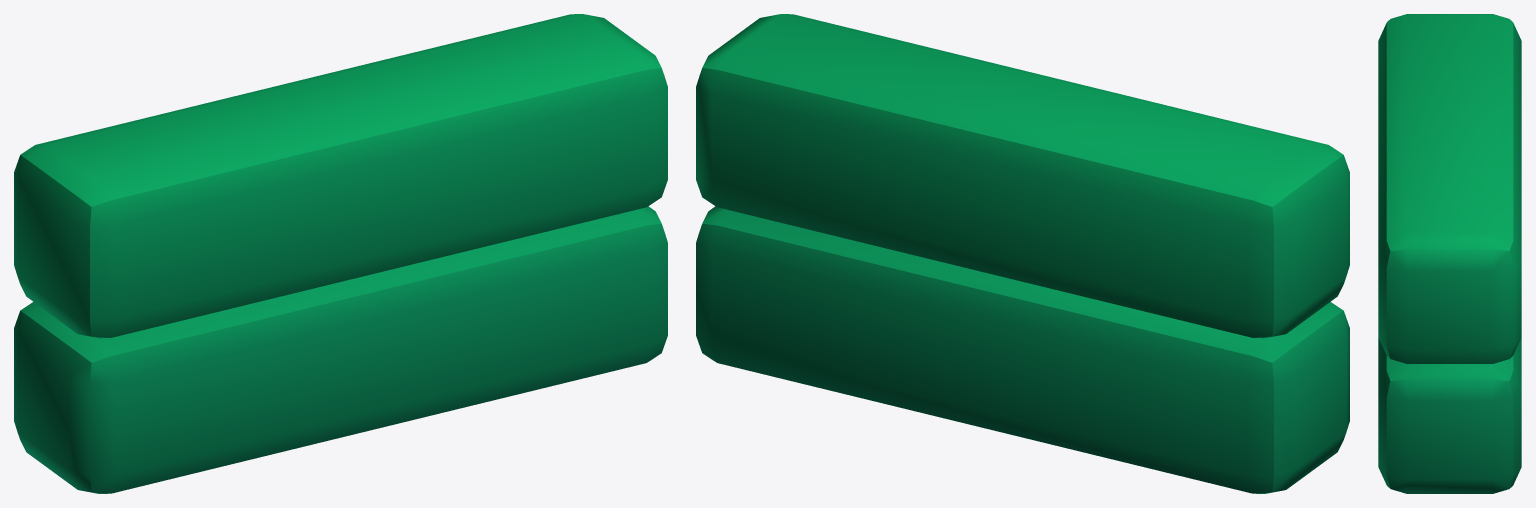
File: barrier_4x1x2_green.glb
3 views of the same model, side by side, from view 1: azimuth 30°, elevation 25°; view 2: azimuth 150°, elevation 25°; view 3: azimuth 270°, elevation 25° (orthographic). The views are drawn at different scales.
Visible parts, largest first — view 1: barrier_4x1x2_green; view 2: barrier_4x1x2_green; view 3: barrier_4x1x2_green.
Part boxes in pixels (x1,y1,x2,y2): barrier_4x1x2_green: [14, 14, 667, 493]; barrier_4x1x2_green: [696, 14, 1349, 493]; barrier_4x1x2_green: [1378, 14, 1521, 493].
Bounding box in the file's own units: 4 × 2 × 1.
Materials: 1 (1 with a texture image).
